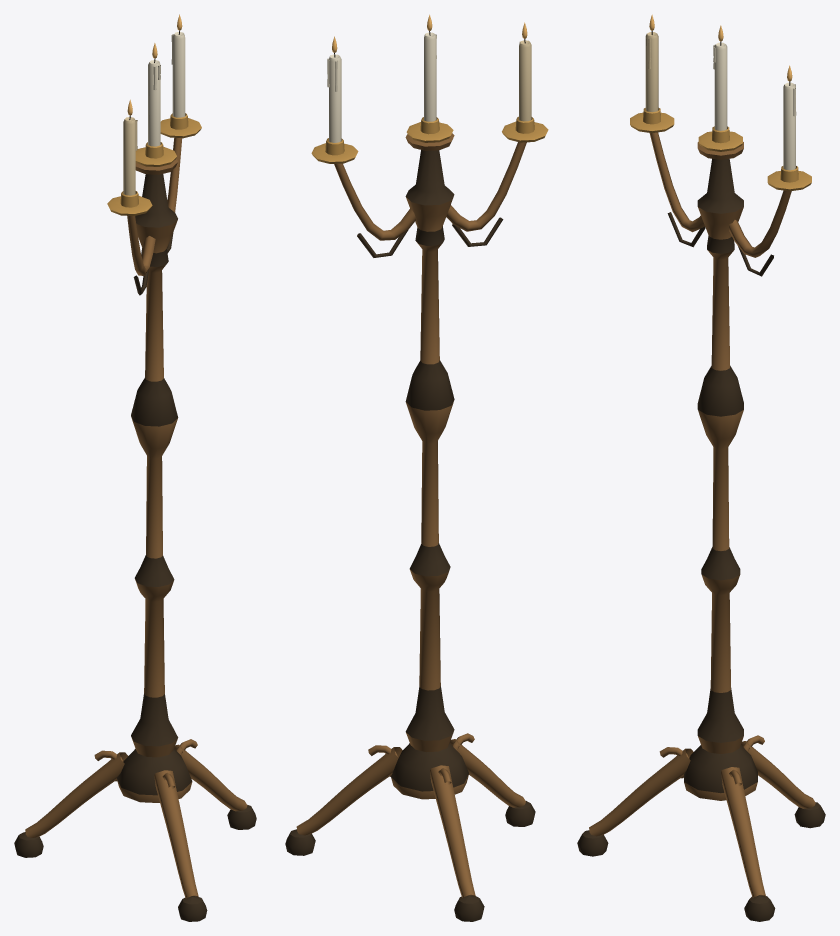
The model's file is candelabrum@1.glb.
3 renders of one model, left to right at view 1: azimuth 30°, elevation 25°; view 2: azimuth 150°, elevation 25°; view 3: azimuth 270°, elevation 25°, orthographic. The views are drawn at different scales.
Parts seen in each view (by area): view 1: kandelaber; view 2: kandelaber; view 3: kandelaber.
Boxes of the visible parts, x1,y1,x2,y2 form: kandelaber: (14, 14, 256, 921); kandelaber: (285, 14, 548, 921); kandelaber: (577, 14, 825, 921).
Size of the model in its own units: 0.52 by 1.91 by 0.5108.
